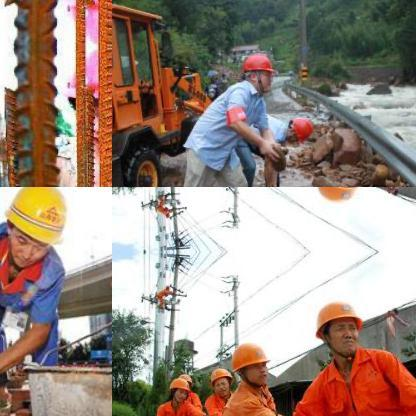Helmet: (0, 187, 73, 268), (67, 46, 111, 146), (307, 293, 365, 357), (226, 338, 270, 386), (67, 0, 111, 45), (238, 49, 278, 89), (306, 187, 366, 209), (281, 112, 315, 142), (209, 363, 233, 395), (166, 376, 190, 400)
